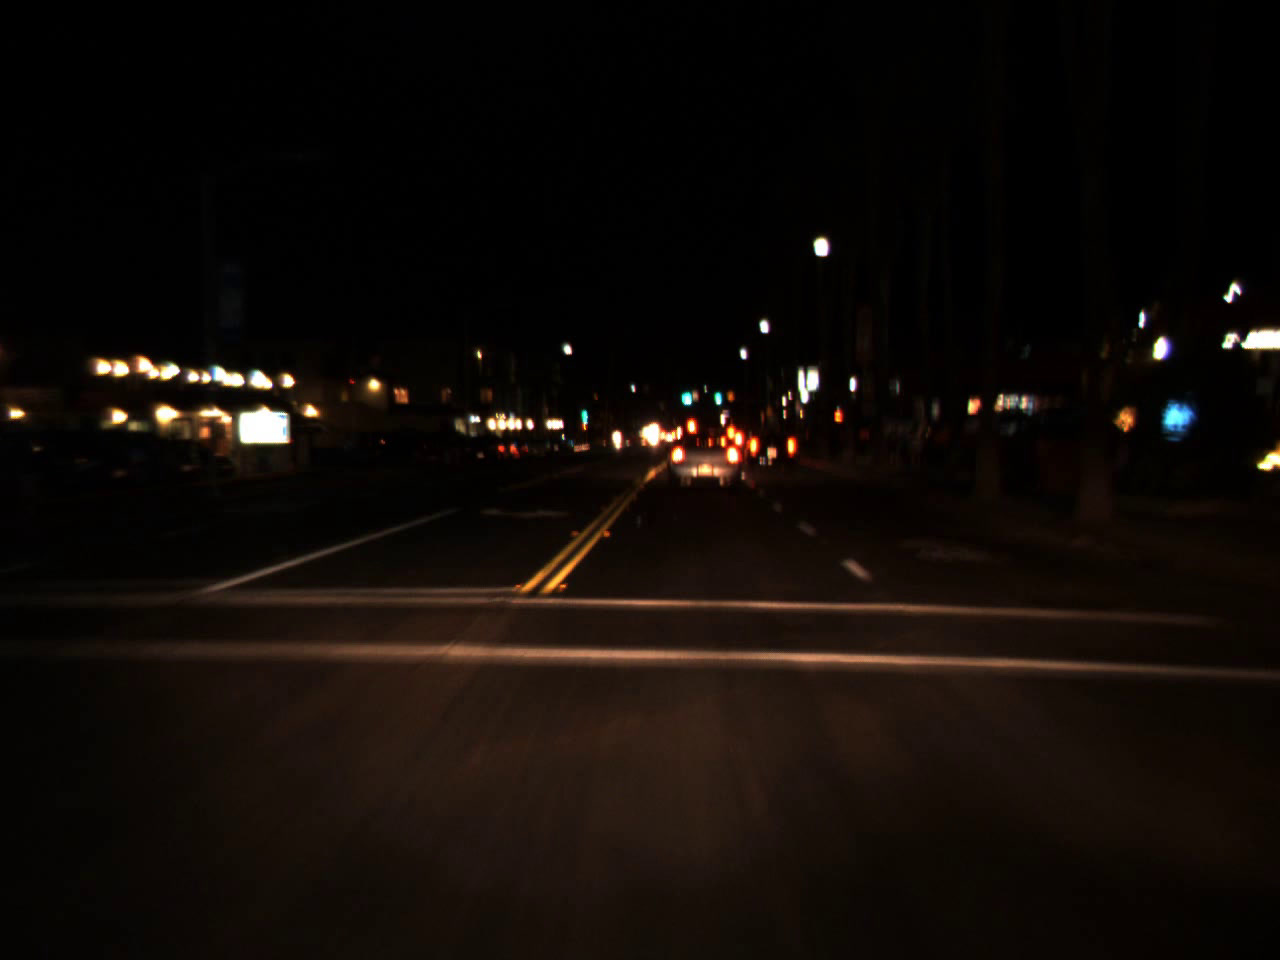go: (677, 375, 695, 411), (579, 397, 588, 424), (713, 382, 722, 403)
